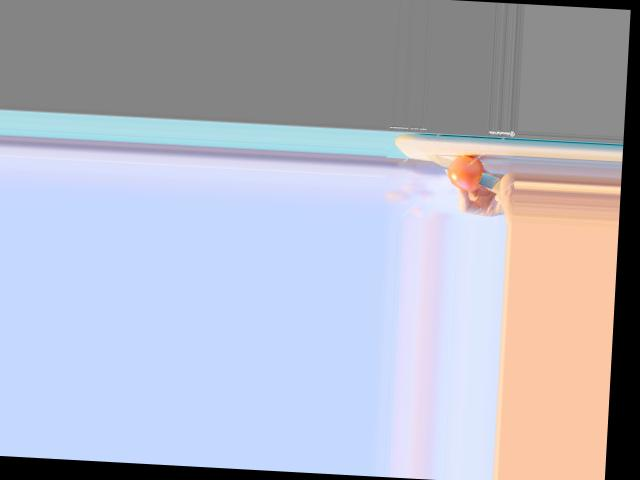tomato: (446, 153, 485, 190)
